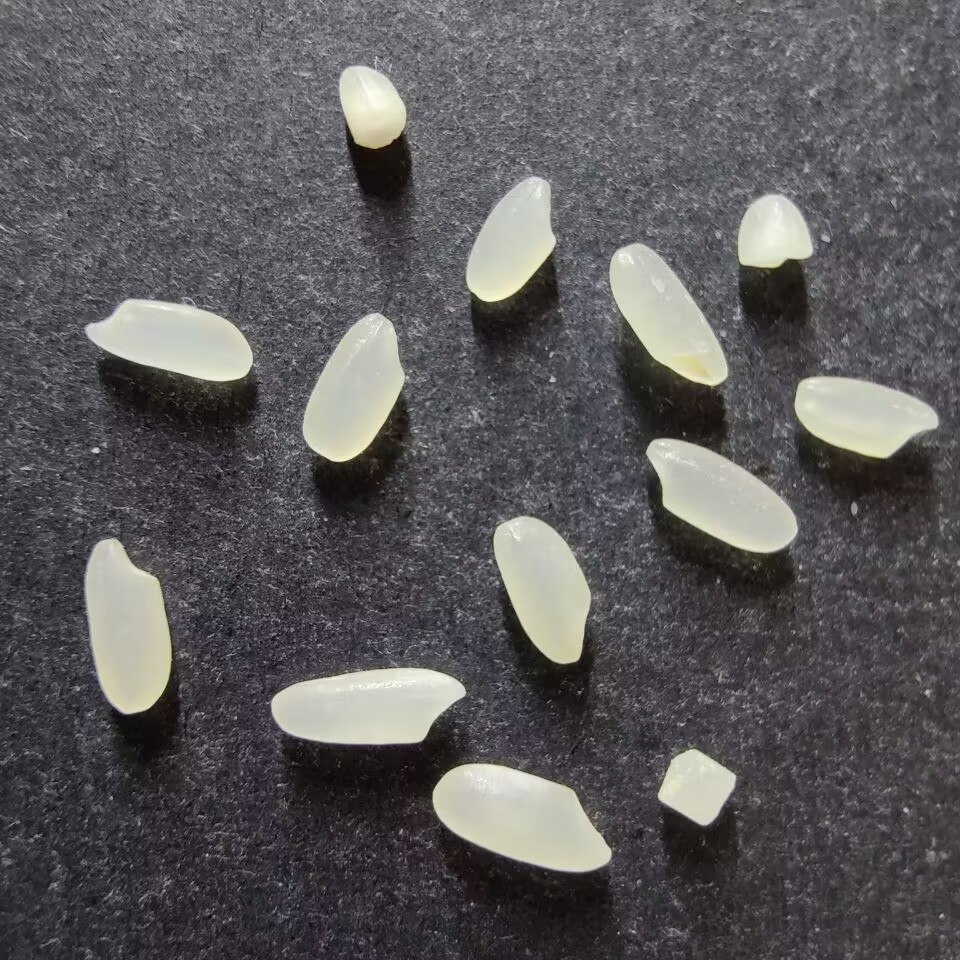broken: (656, 748, 736, 827), (338, 64, 408, 148), (736, 194, 813, 268)
rice: (431, 763, 612, 873), (644, 437, 799, 554), (608, 242, 729, 386), (301, 311, 405, 462), (83, 538, 171, 714), (270, 668, 467, 745), (492, 515, 592, 665), (83, 298, 253, 382), (793, 376, 939, 458), (464, 175, 556, 302)
